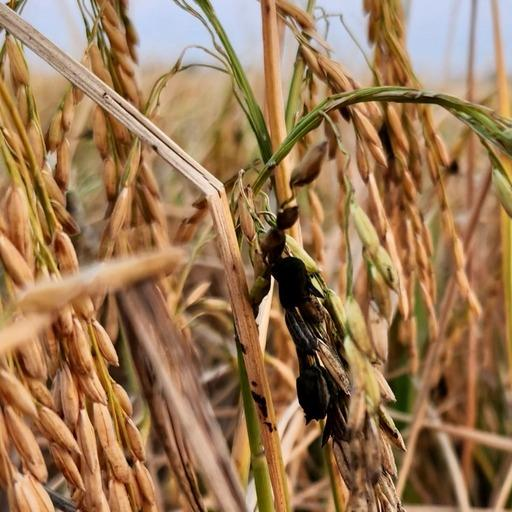Leaf_Scald: (266, 246, 360, 427)
